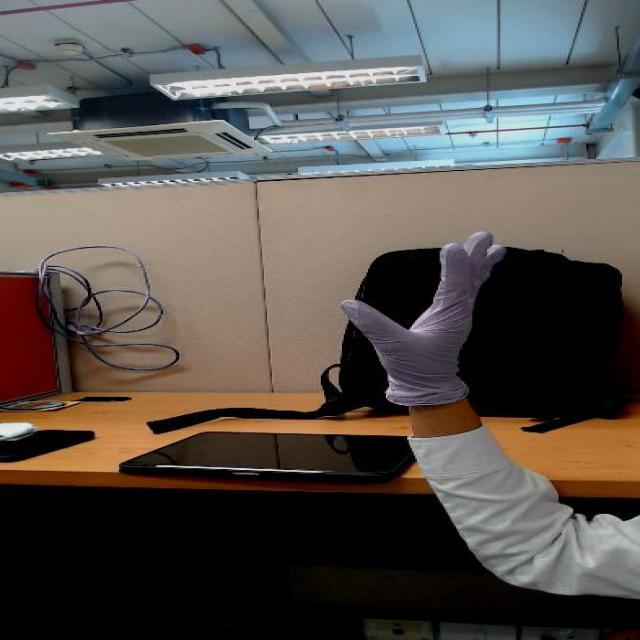with_gloves: (277, 225, 567, 382)
